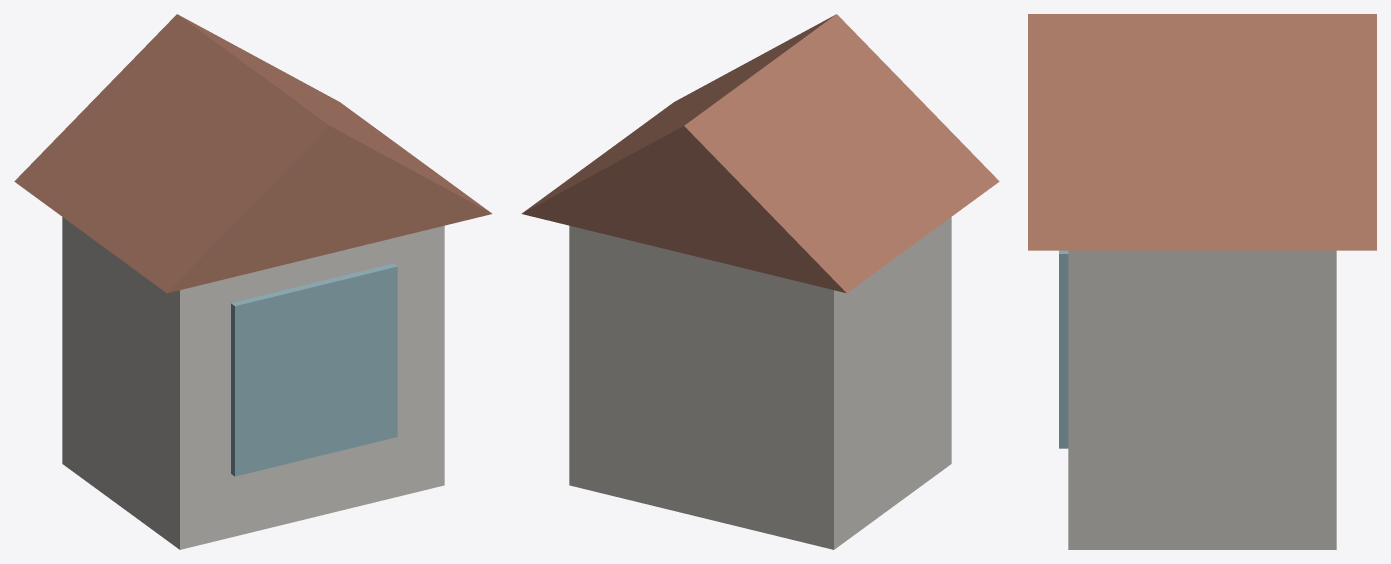
The model's file is roof_dormer.glb.
The picture shows the model from 3 angles, left to right: view 1: azimuth 30°, elevation 25°; view 2: azimuth 150°, elevation 25°; view 3: azimuth 270°, elevation 25°; orthographic projection. The views are drawn at different scales.
Visible parts, largest first — view 1: world; view 2: world; view 3: world.
Part boxes in pixels (left/top/right/bottom): world: left=14, top=14, right=492, bottom=549; world: left=521, top=14, right=999, bottom=549; world: left=1028, top=14, right=1376, bottom=549.
Bounding box in the file's own units: 1.6 × 1.9 × 1.3.
